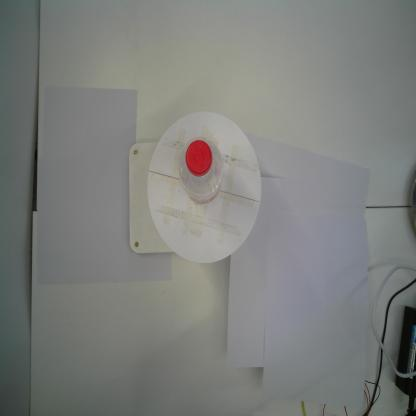Drink: (176, 130, 226, 207)
